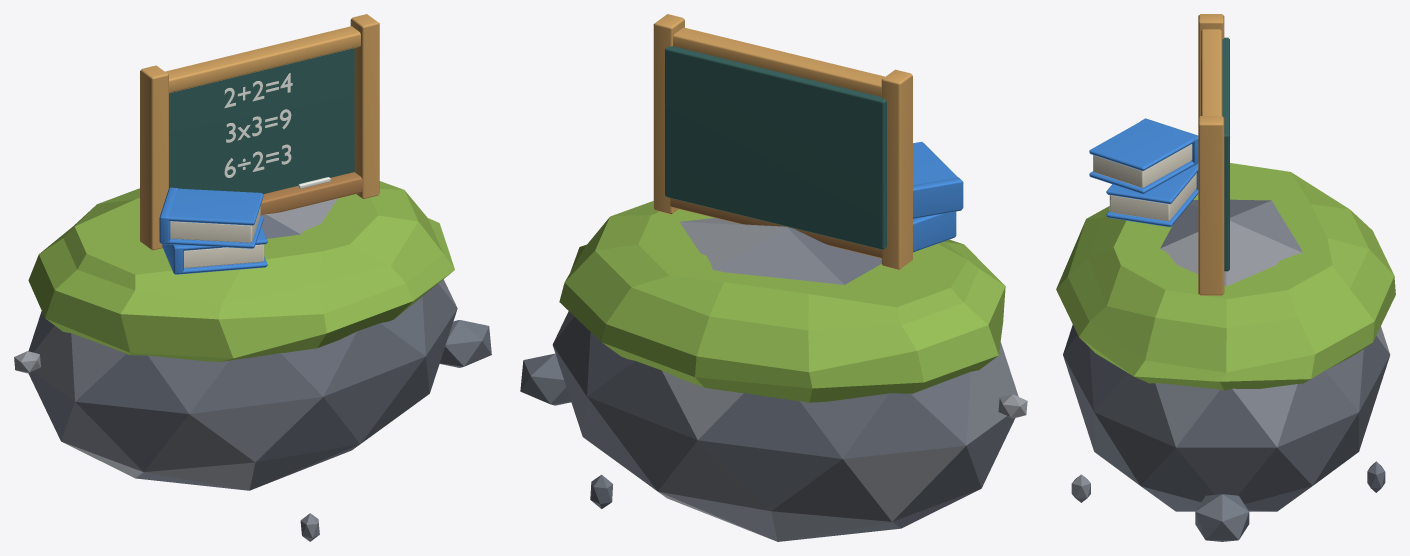
The model's file is Skyland2.fbx.
3 views of the same model, side by side, from view 1: azimuth 30°, elevation 25°; view 2: azimuth 150°, elevation 25°; view 3: azimuth 270°, elevation 25° (orthographic). The views are drawn at different scales.
Parts seen in each view (by area): view 1: Massa rochosa facetada, Borda de terra, Moldura inferior, Livro azul - lombada.001, Fragmento flutuante 04, Livro azul - lombada; view 2: Massa rochosa facetada, Borda de terra, Moldura inferior, Fragmento flutuante 04, Livro azul - lombada.001, Livro azul - lombada; view 3: Borda de terra, Massa rochosa facetada, Moldura inferior, Livro azul - lombada.001, Livro azul - lombada, Fragmento flutuante 04.
Boxes of the visible parts, <box> form: Massa rochosa facetada: <box>28,198,457,490</box>; Borda de terra: <box>28,181,454,361</box>; Moldura inferior: <box>140,14,379,250</box>; Livro azul - lombada.001: <box>159,187,263,248</box>; Fragmento flutuante 04: <box>14,320,491,541</box>; Livro azul - lombada: <box>162,226,267,274</box>; Massa rochosa facetada: <box>552,218,1018,541</box>; Borda de terra: <box>559,201,1005,402</box>; Moldura inferior: <box>653,14,912,269</box>; Fragmento flutuante 04: <box>520,353,1027,508</box>; Livro azul - lombada.001: <box>913,141,963,218</box>; Livro azul - lombada: <box>913,211,956,252</box>; Borda de terra: <box>1056,163,1395,390</box>; Massa rochosa facetada: <box>1063,199,1390,511</box>; Moldura inferior: <box>1198,14,1229,295</box>; Livro azul - lombada.001: <box>1089,118,1198,193</box>; Livro azul - lombada: <box>1106,164,1198,227</box>; Fragmento flutuante 04: <box>1071,461,1385,541</box>.
Bounding box in the file's own units: 612 × 555 × 386.
